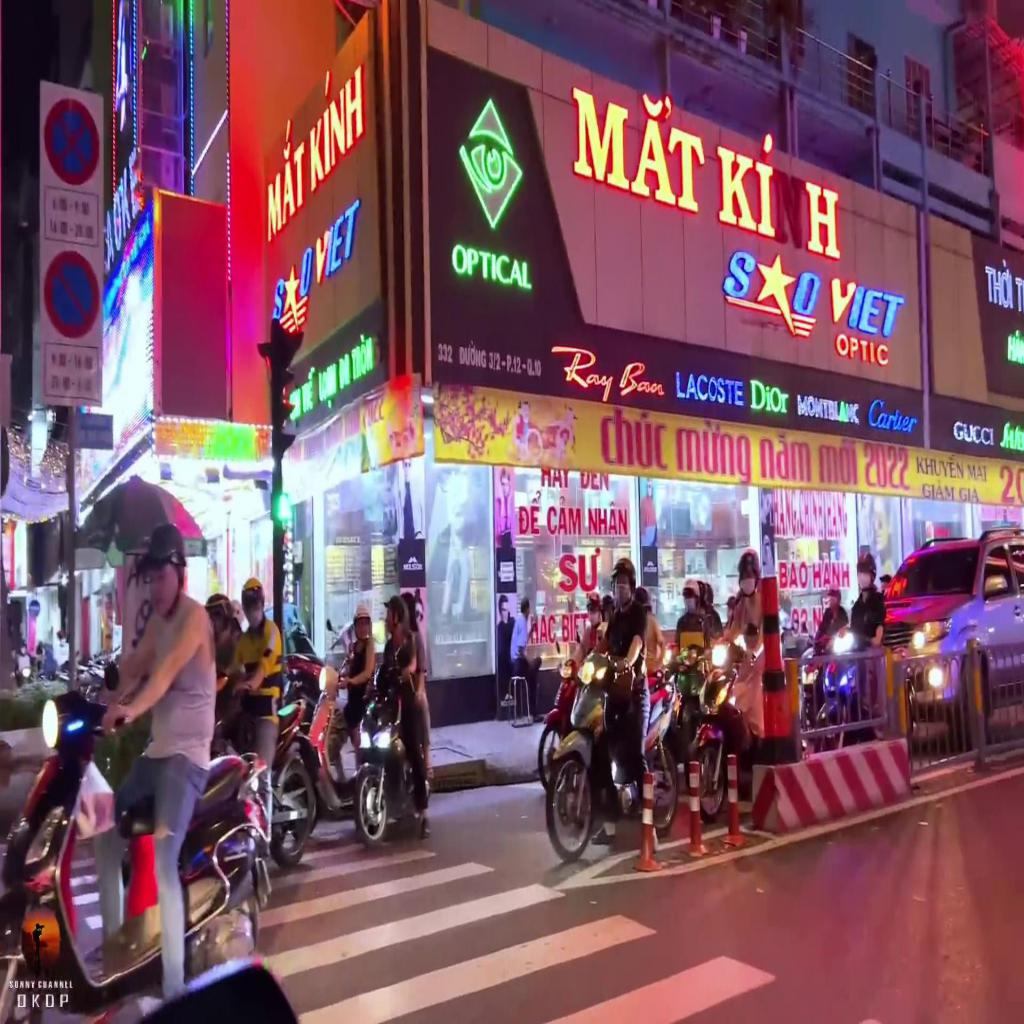cam_do_xe: (44, 248, 98, 338)
cam_dung_xe_va_do_xe: (44, 98, 99, 186)
